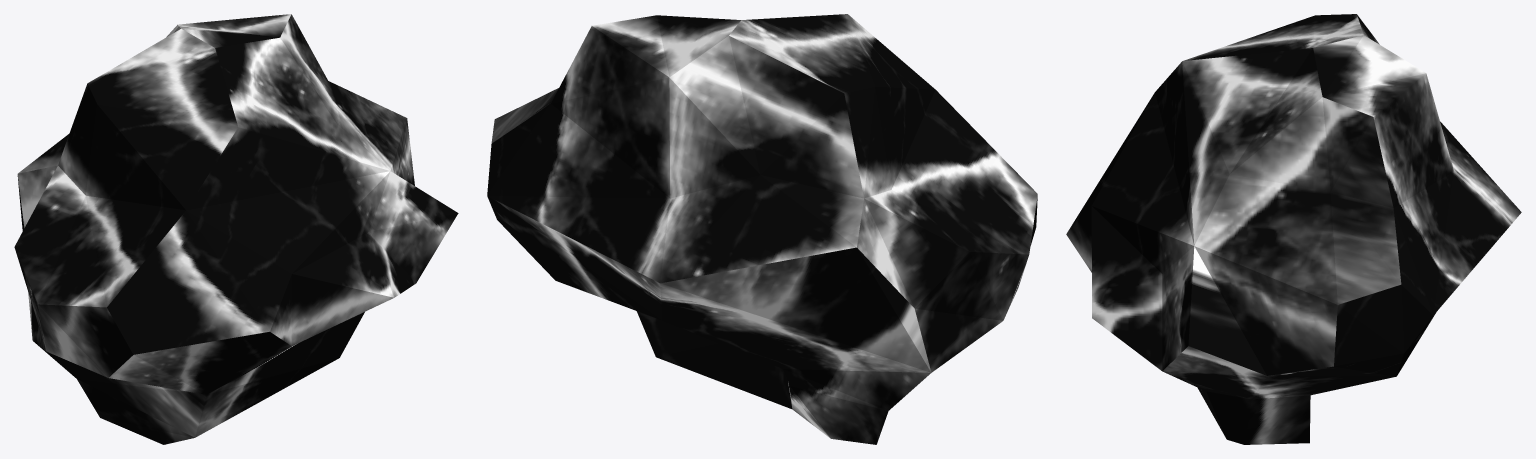
Rendered from item_ore_copper_l.glb.
3 views of the same model, side by side, from view 1: azimuth 30°, elevation 25°; view 2: azimuth 150°, elevation 25°; view 3: azimuth 270°, elevation 25° (orthographic). The views are drawn at different scales.
Visible parts, largest first — view 1: item_view_ore_copper_l; view 2: item_view_ore_copper_l; view 3: item_view_ore_copper_l.
Boxes of the visible parts, <box> form: item_view_ore_copper_l: <box>14,14,458,444</box>; item_view_ore_copper_l: <box>487,14,1037,444</box>; item_view_ore_copper_l: <box>1066,14,1521,444</box>.
Size of the model in its own units: 0.3785 by 0.3124 by 0.3155.
Materials: 1 (1 with a texture image).
